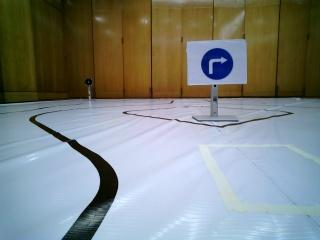right: (196, 45, 245, 82)
